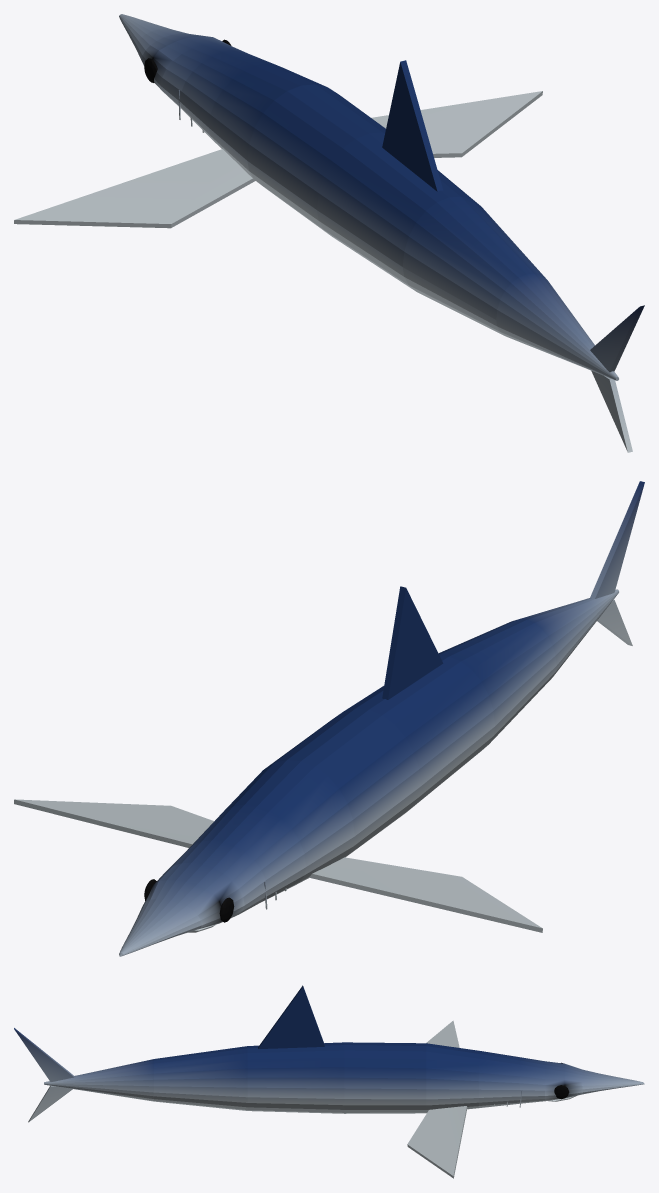
File: shark.glb
3 views of the same model, one above another, from view 1: azimuth 30°, elevation 25°; view 2: azimuth 150°, elevation 25°; view 3: azimuth 270°, elevation 25° (orthographic). The views are drawn at different scales.
Parts seen in each view (by area): view 1: shark_male; view 2: shark_male; view 3: shark_male.
Boxes of the visible parts, box(x1,y1,x2,y2) form: shark_male: box(14, 14, 644, 452); shark_male: box(14, 481, 644, 956); shark_male: box(14, 985, 644, 1178).
Size of the model in its own units: 6.3 by 2.56 by 10.78.
